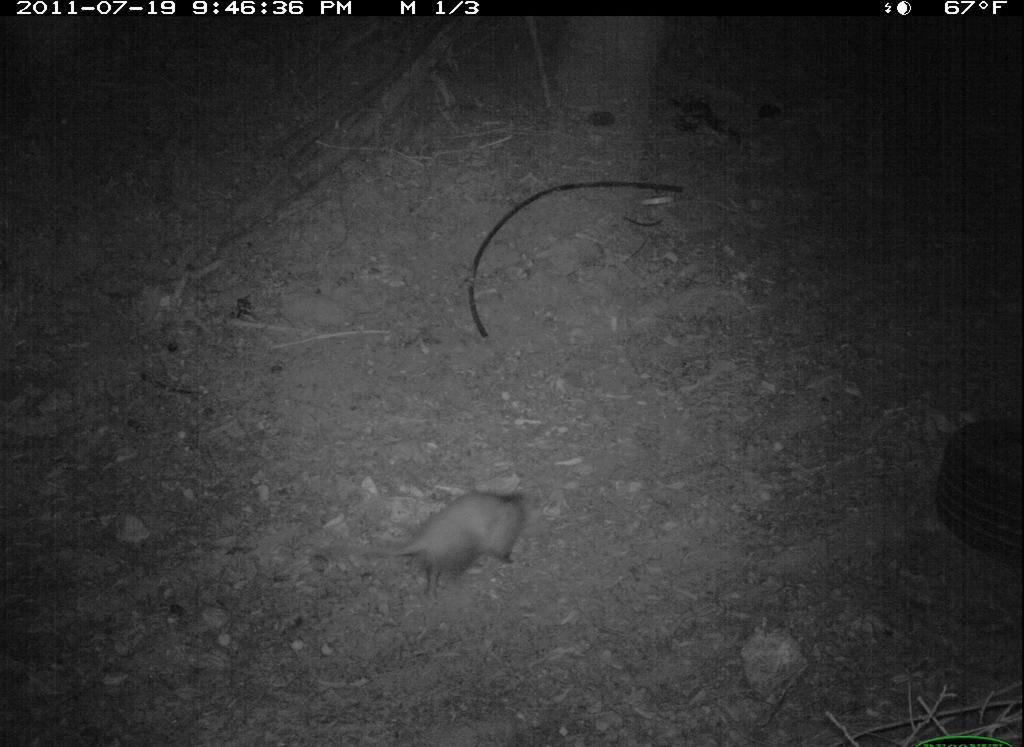opossum: (354, 489, 543, 601)
